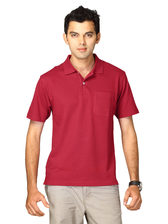clothoes: (22, 52, 139, 185)
watch: (124, 174, 148, 192)
